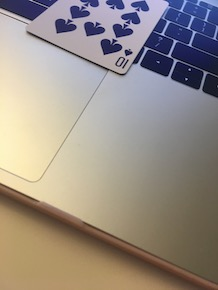TenOfSpades: (23, 1, 171, 74)
